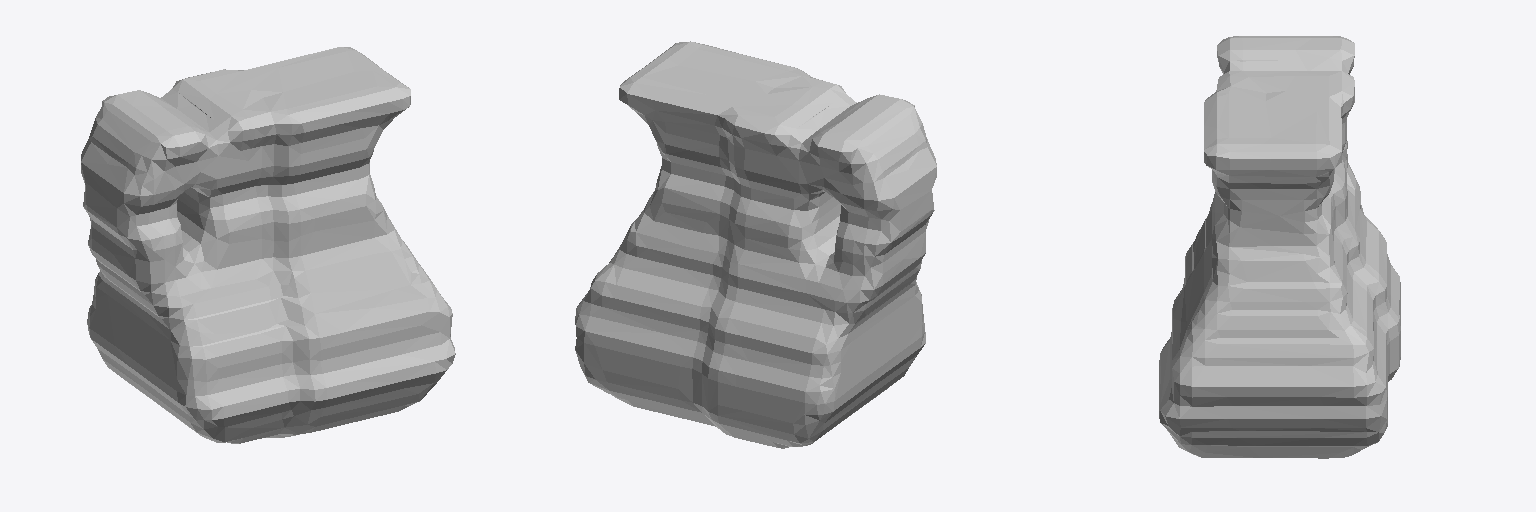
The model's file is profile.obj.
3 renders of one model, left to right at view 1: azimuth 30°, elevation 25°; view 2: azimuth 150°, elevation 25°; view 3: azimuth 270°, elevation 25°, orthographic.
Size of the model in its own units: 1.3 by 1.35 by 0.8994.